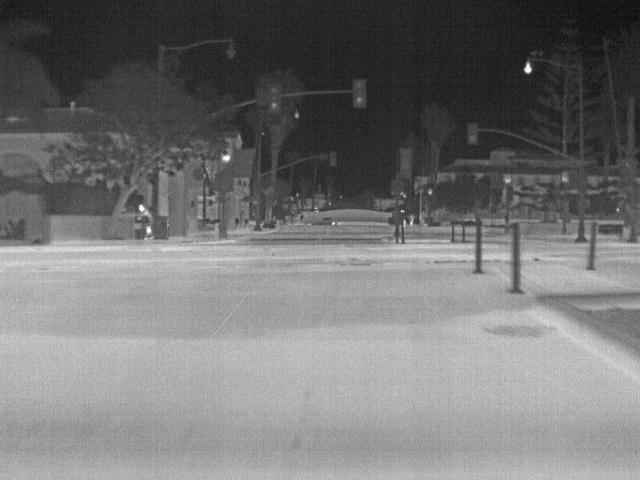person: (136, 202, 155, 240)
